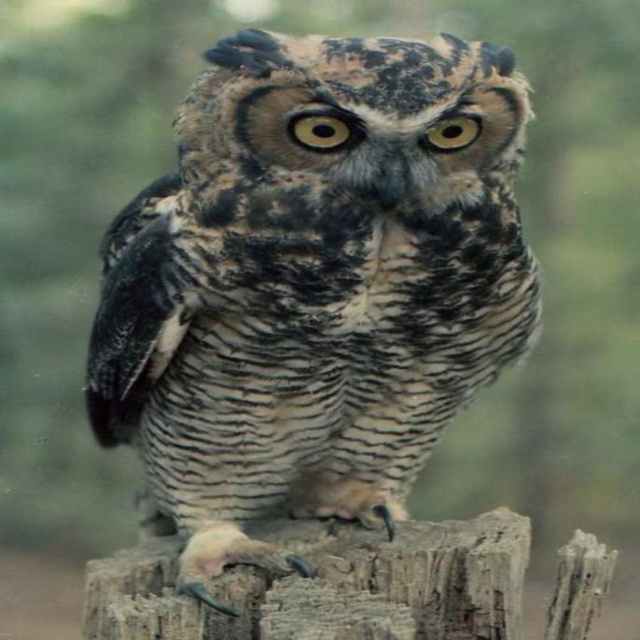Owl: (82, 25, 547, 619)
